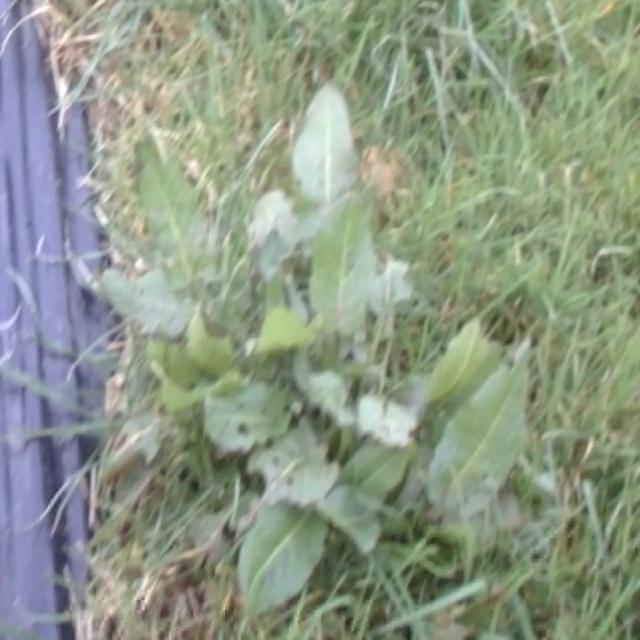organic waste: (86, 93, 559, 582), (156, 265, 600, 640), (80, 101, 400, 442)
